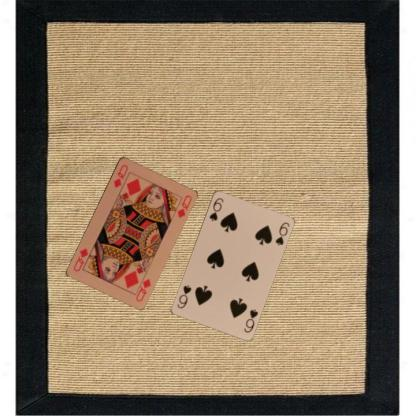6s: (241, 306, 259, 334), (207, 195, 225, 222)
Qd: (132, 272, 152, 303), (110, 162, 129, 189)
